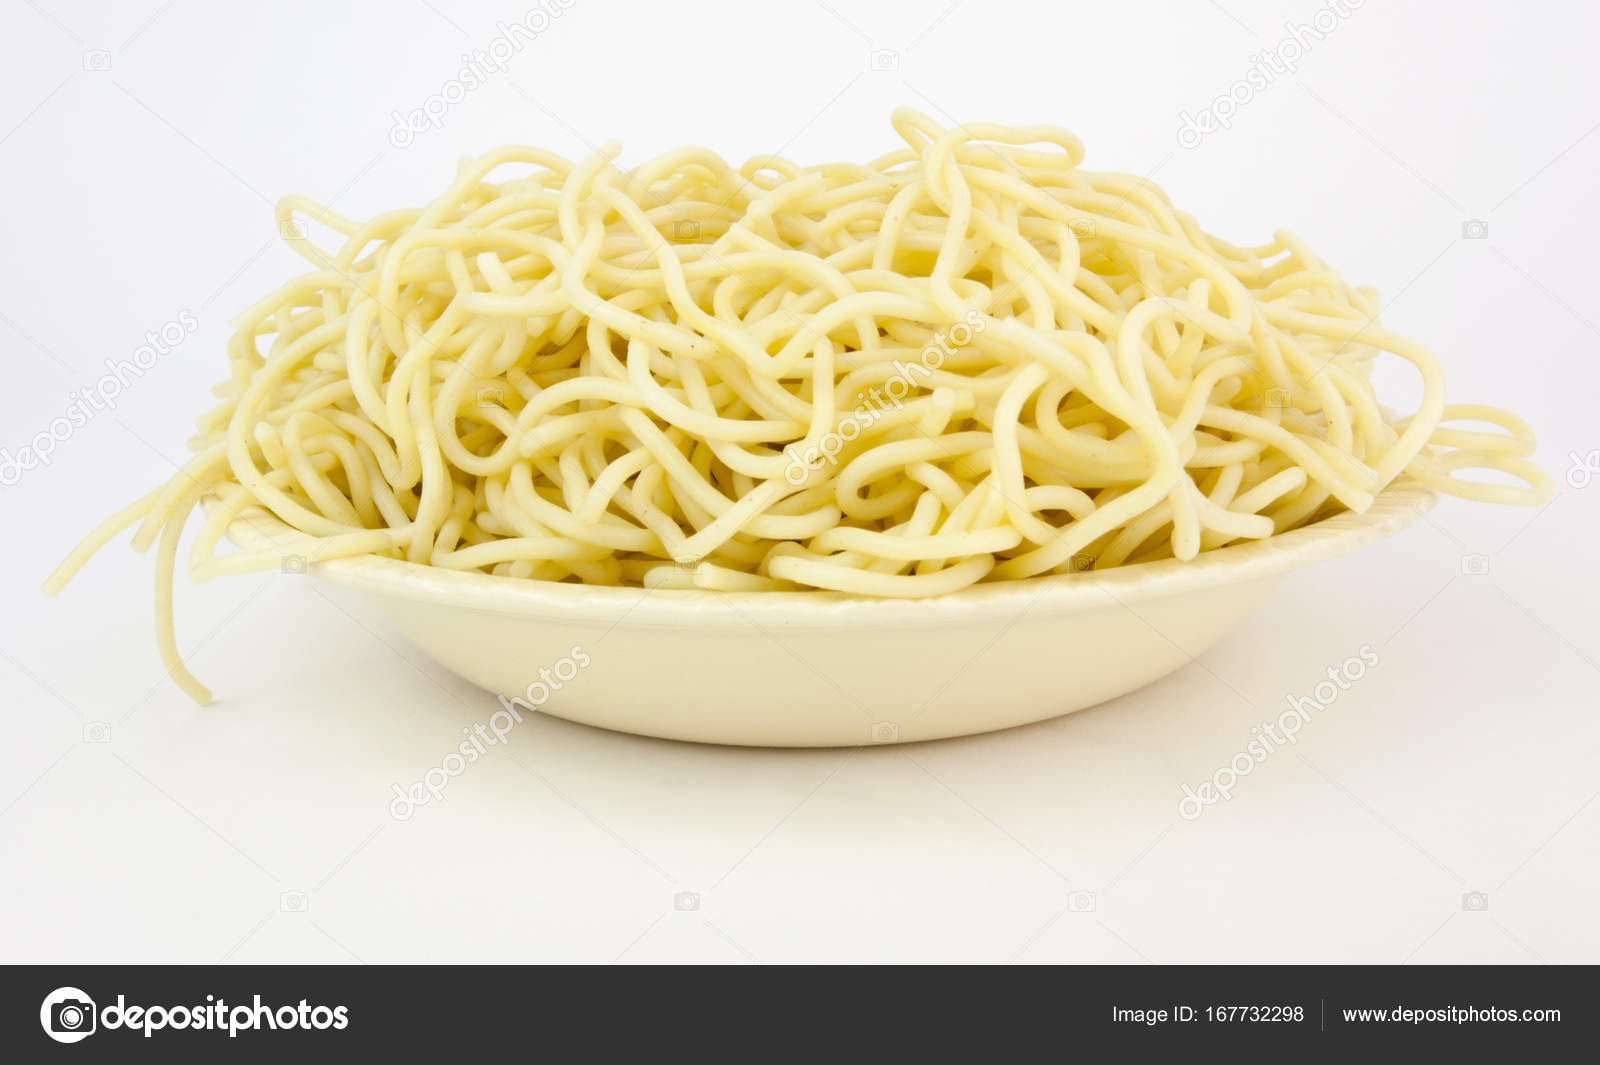plain spaghetti: (336, 223, 1344, 528)
